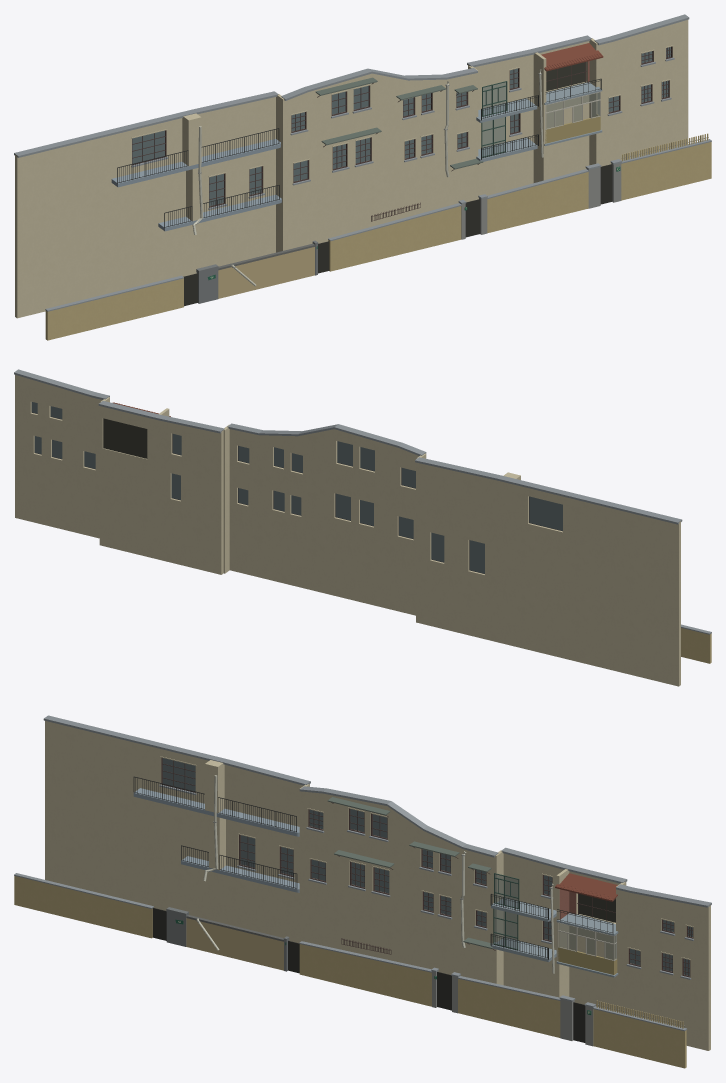
Rendered from xuhui-qixia-village-wuyuan-372-raw.glb.
3 renders of one model, top to bottom at view 1: azimuth 30°, elevation 25°; view 2: azimuth 150°, elevation 25°; view 3: azimuth 330°, elevation 25°, orthographic.
Parts seen in each view (by area): view 1: 栖霞村6–9号院向立面; view 2: 栖霞村6–9号院向立面; view 3: 栖霞村6–9号院向立面.
Part boxes in pixels (x1=…): 栖霞村6–9号院向立面: x1=14, y1=14, x2=711, y2=340; 栖霞村6–9号院向立面: x1=14, y1=369, x2=711, y2=686; 栖霞村6–9号院向立面: x1=14, y1=715, x2=711, y2=1068.
Size of the model in its own units: 38.68 by 9.35 by 3.72.
Materials: 28 (3 with a texture image).
